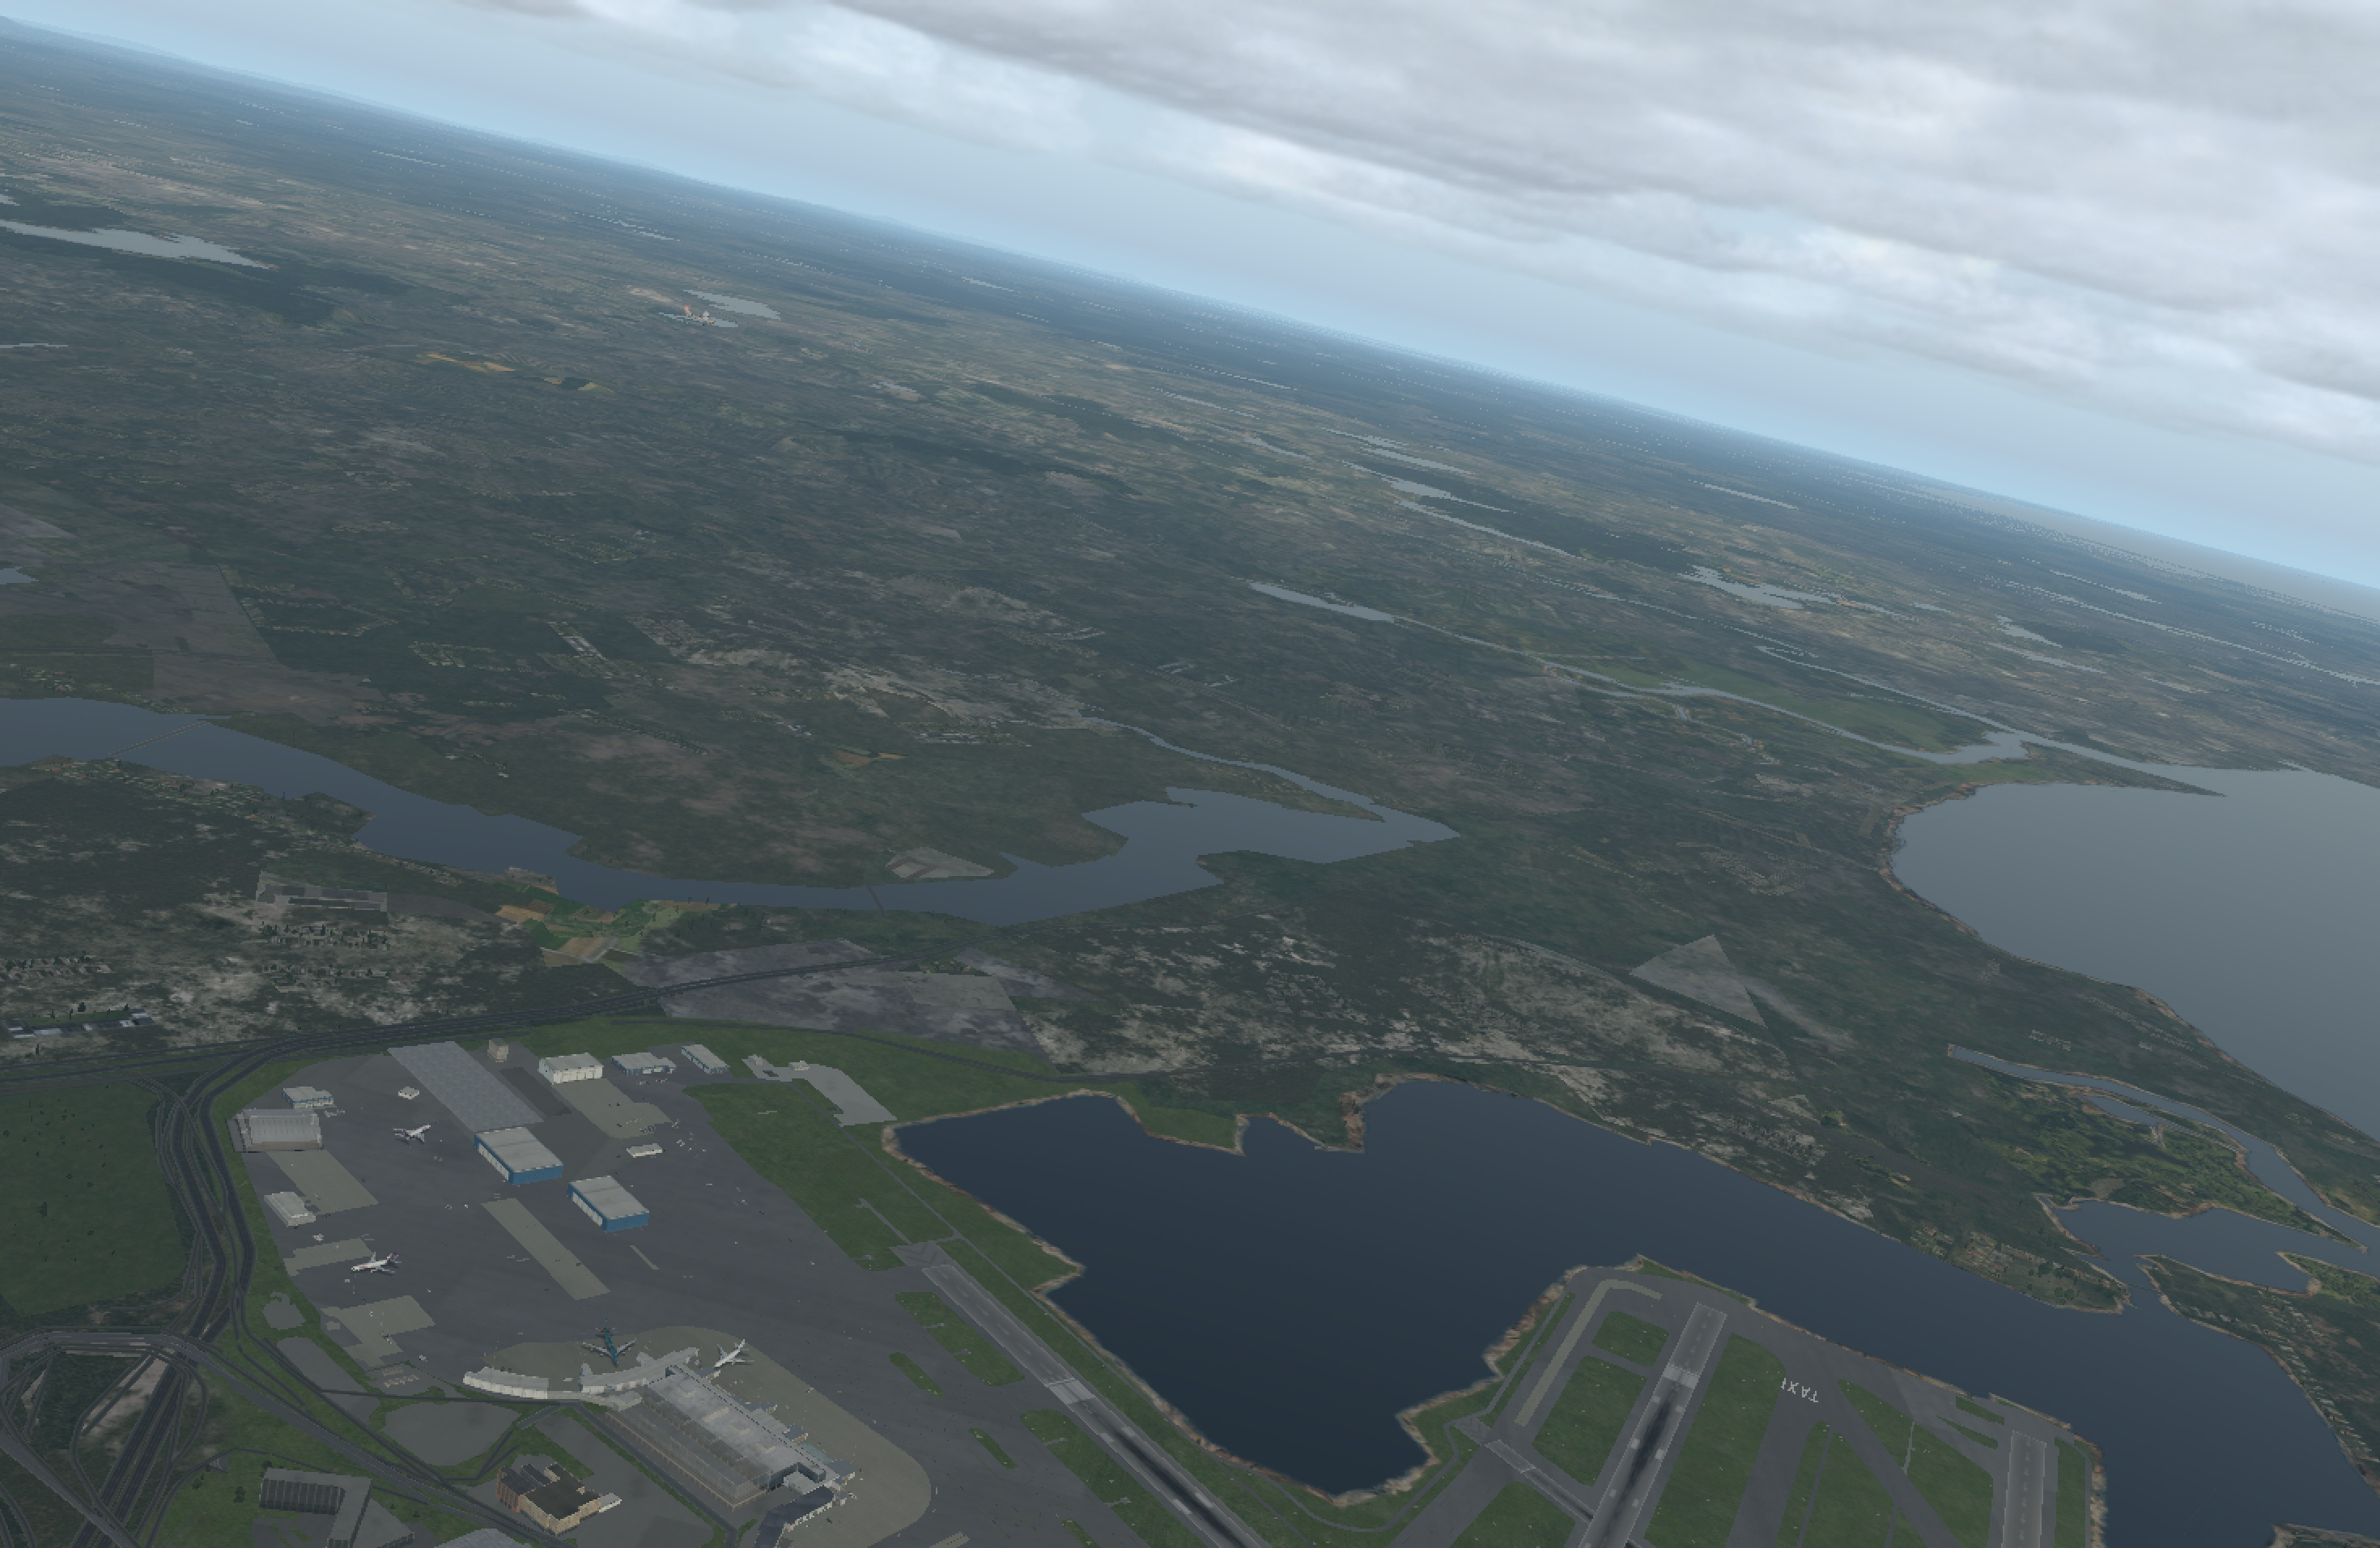aircraft: (692, 314, 722, 325)
